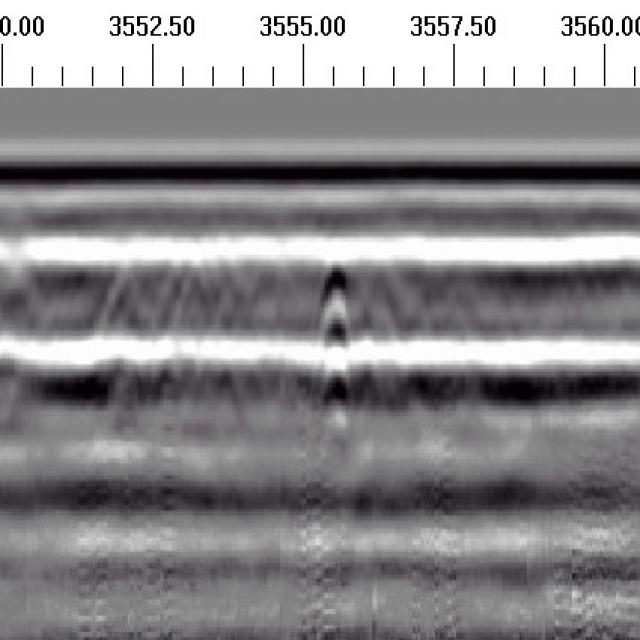crack: (307, 246, 358, 451)
